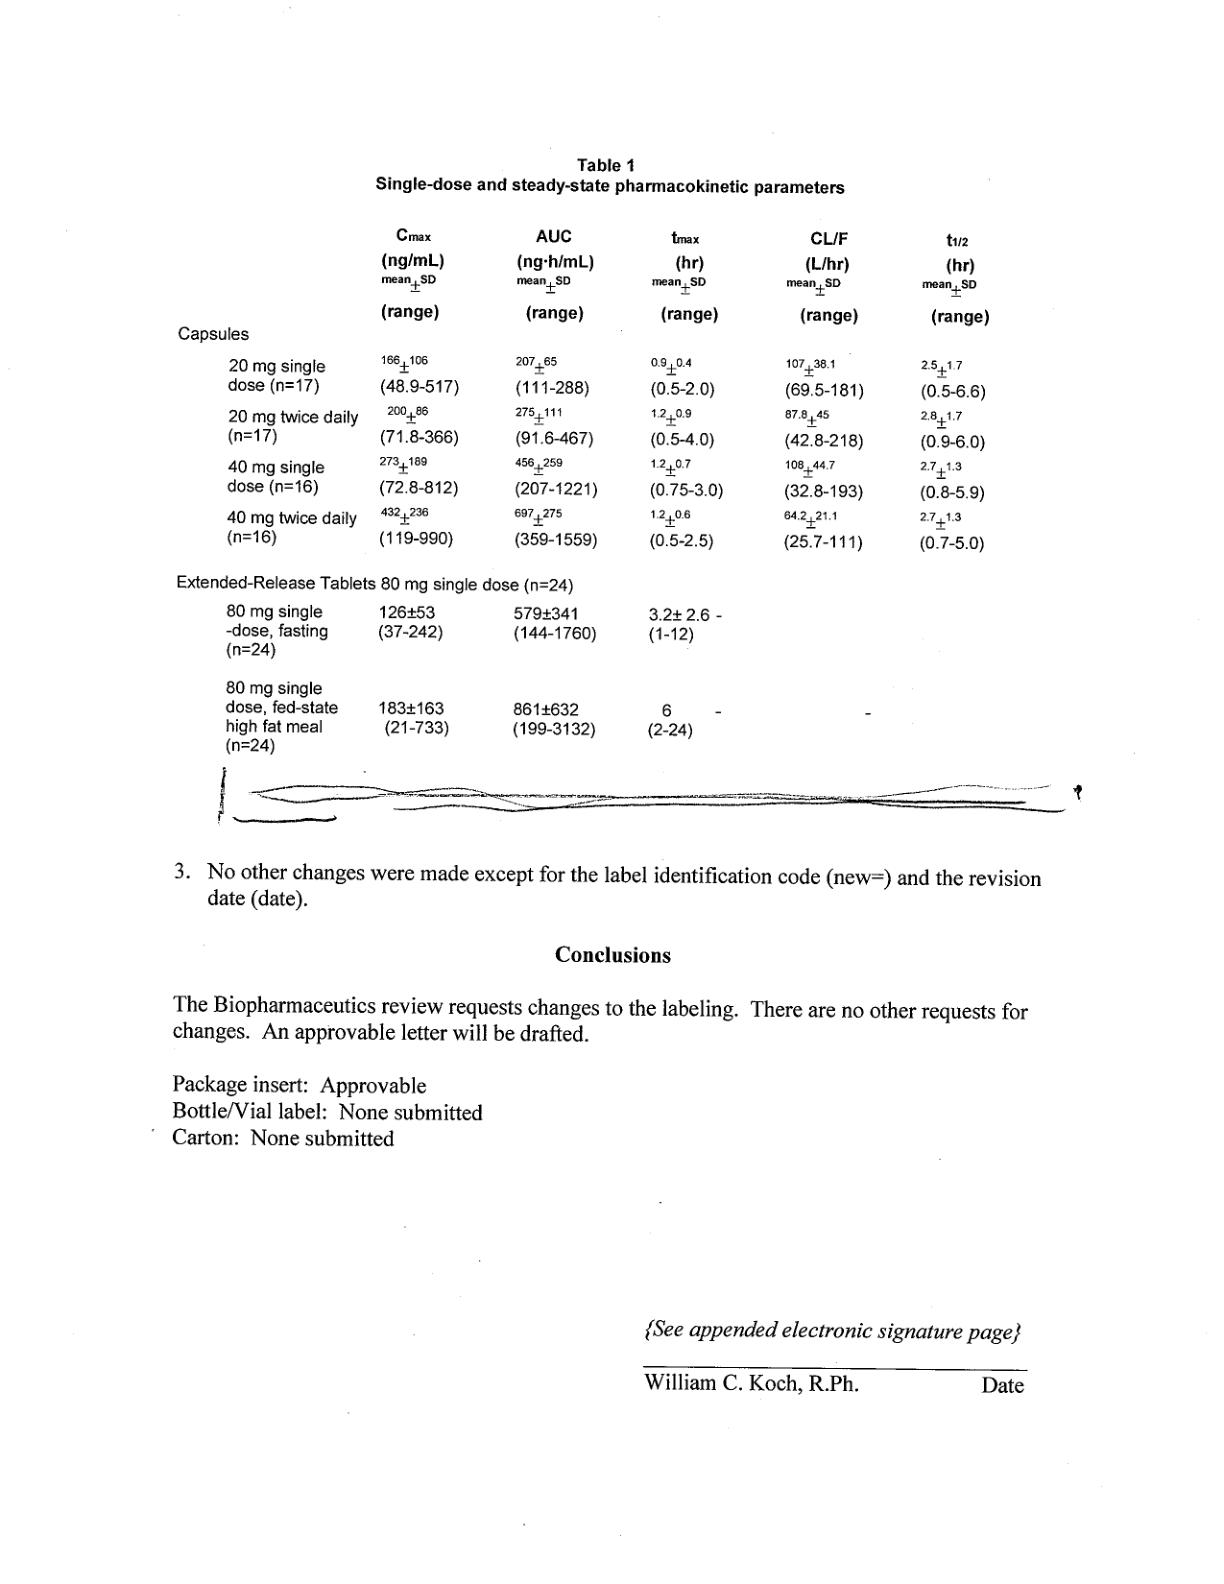nolines: (175, 221, 995, 755)
